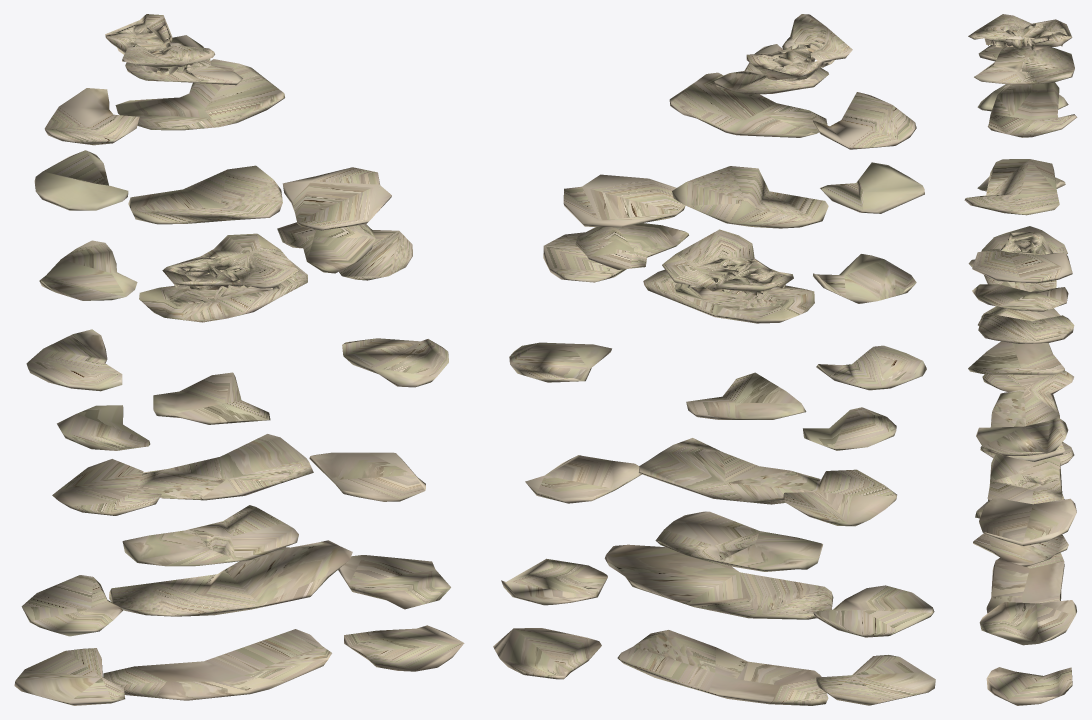
Rendered from Floating_Shelves_Form.glb.
3 renders of one model, left to right at view 1: azimuth 30°, elevation 25°; view 2: azimuth 150°, elevation 25°; view 3: azimuth 270°, elevation 25°, orthographic. The views are drawn at different scales.
Parts seen in each view (by area): view 1: Floating_Shelves_Form; view 2: Floating_Shelves_Form; view 3: Floating_Shelves_Form.
Part boxes in pixels (x1,y1,x2,y2): Floating_Shelves_Form: (14, 14, 464, 705); Floating_Shelves_Form: (493, 14, 935, 705); Floating_Shelves_Form: (964, 14, 1077, 705).
Size of the model in its own units: 1.33 by 1.99 by 0.3607.
1 material, 1 textured.
